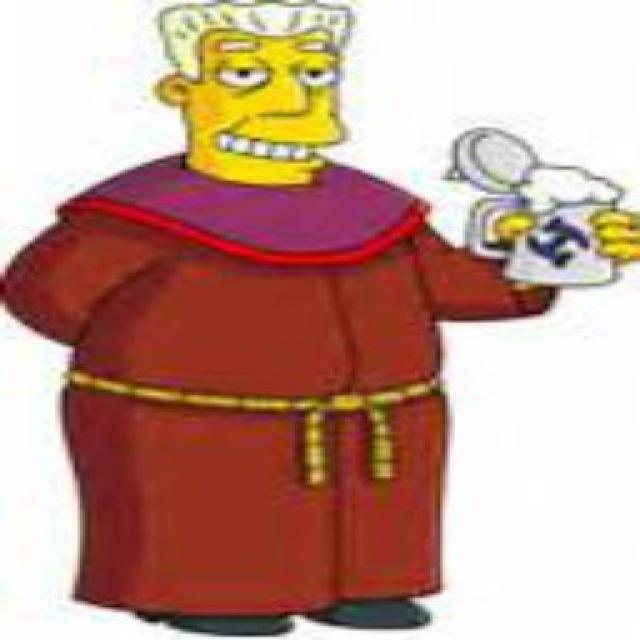Kent Brockman: (151, 0, 359, 189)
